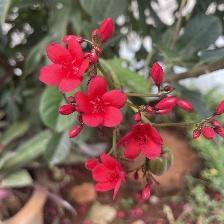jatropha: (77, 76, 130, 136)
